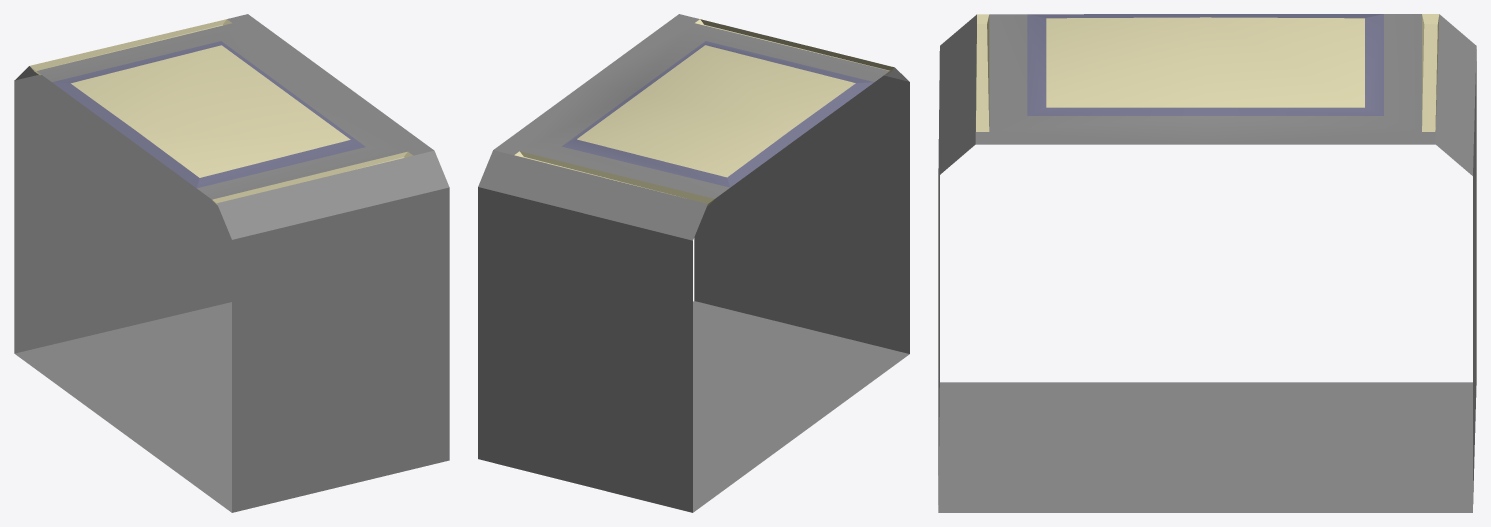
The model's file is Cor2.fbx.
3 views of the same model, side by side, from view 1: azimuth 30°, elevation 25°; view 2: azimuth 150°, elevation 25°; view 3: azimuth 270°, elevation 25° (orthographic). The views are drawn at different scales.
Visible parts, largest first — view 1: Cube.008; view 2: Cube.008; view 3: Cube.008.
Part boxes in pixels (x1,y1,x2,y2): Cube.008: [14, 14, 449, 512]; Cube.008: [478, 14, 909, 512]; Cube.008: [938, 14, 1476, 512].
Size of the model in its own units: 228 by 303 by 397.
